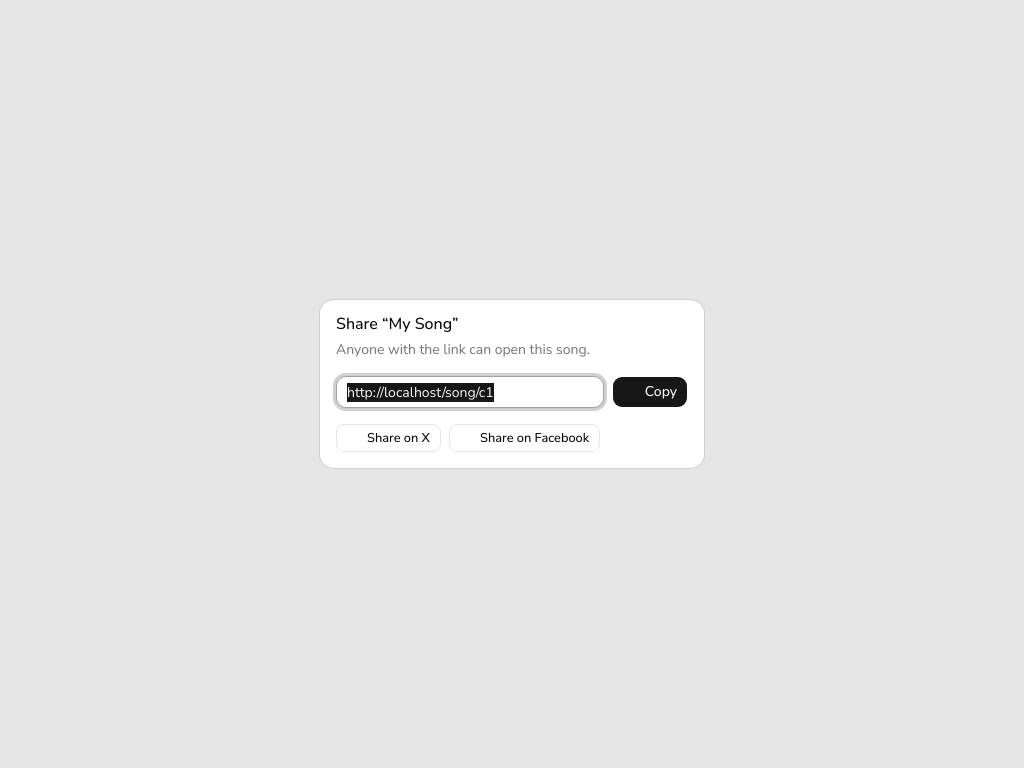
Test: ShareModal › copies the link and shows confirmation
The width and height of the screenshot is (1024, 768).
Click the button with aria-label "Copy link": (650, 392) [612,376,688,408]
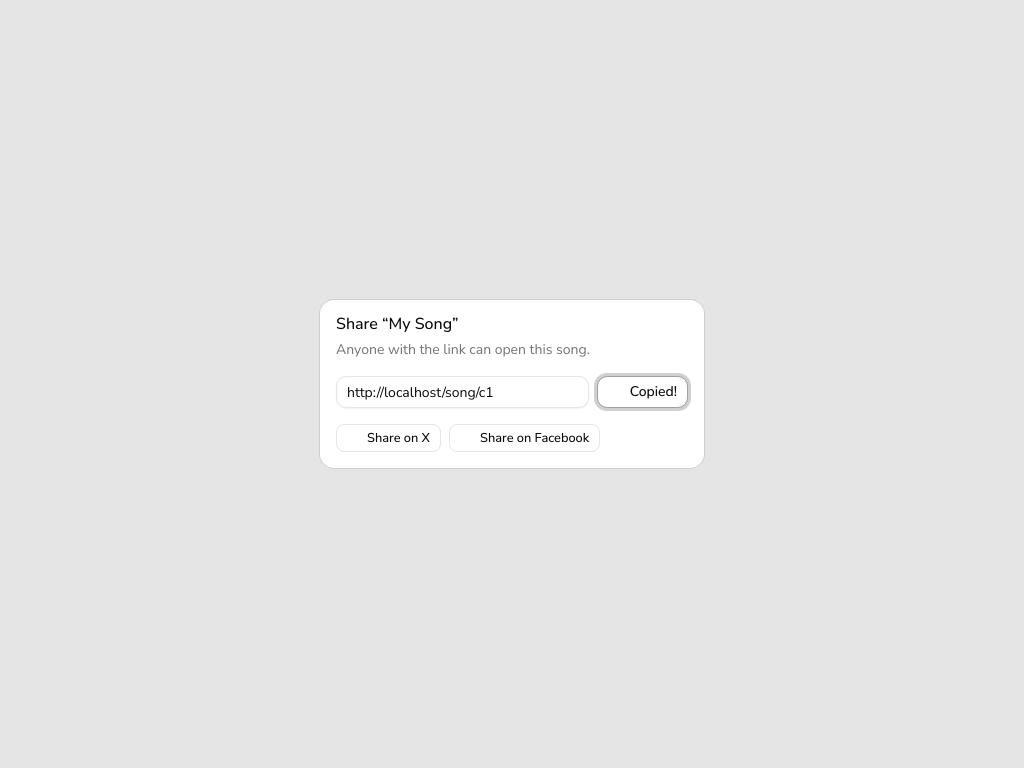
expect the button "Copied!" is shown: met, box [597,376,688,408]
